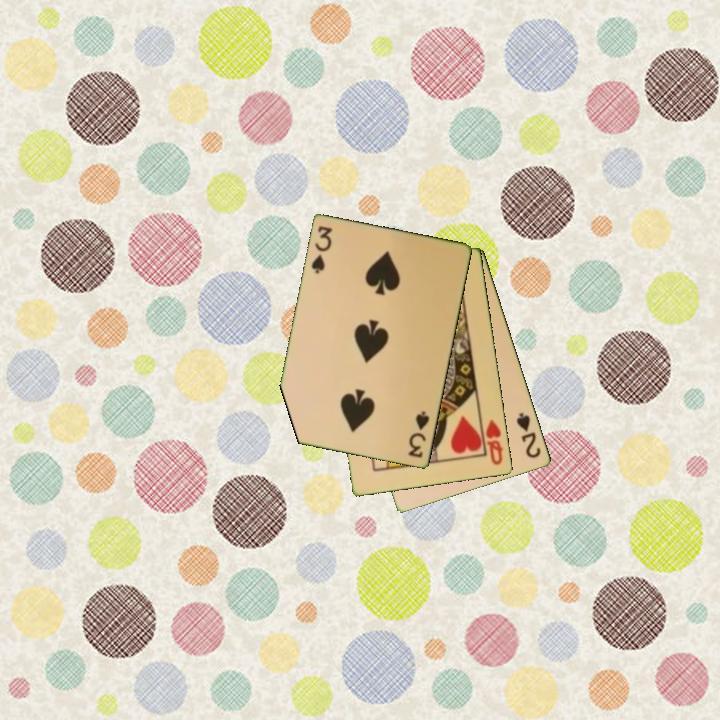2s: (513, 409, 544, 461)
3s: (405, 408, 433, 461), (308, 223, 335, 277)
Qh: (478, 414, 506, 468)
